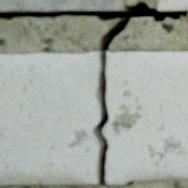brick: (0, 0, 125, 11), (158, 0, 187, 10)
broken_brick: (0, 52, 100, 184), (103, 52, 187, 184)
crack: (0, 1, 187, 187)
